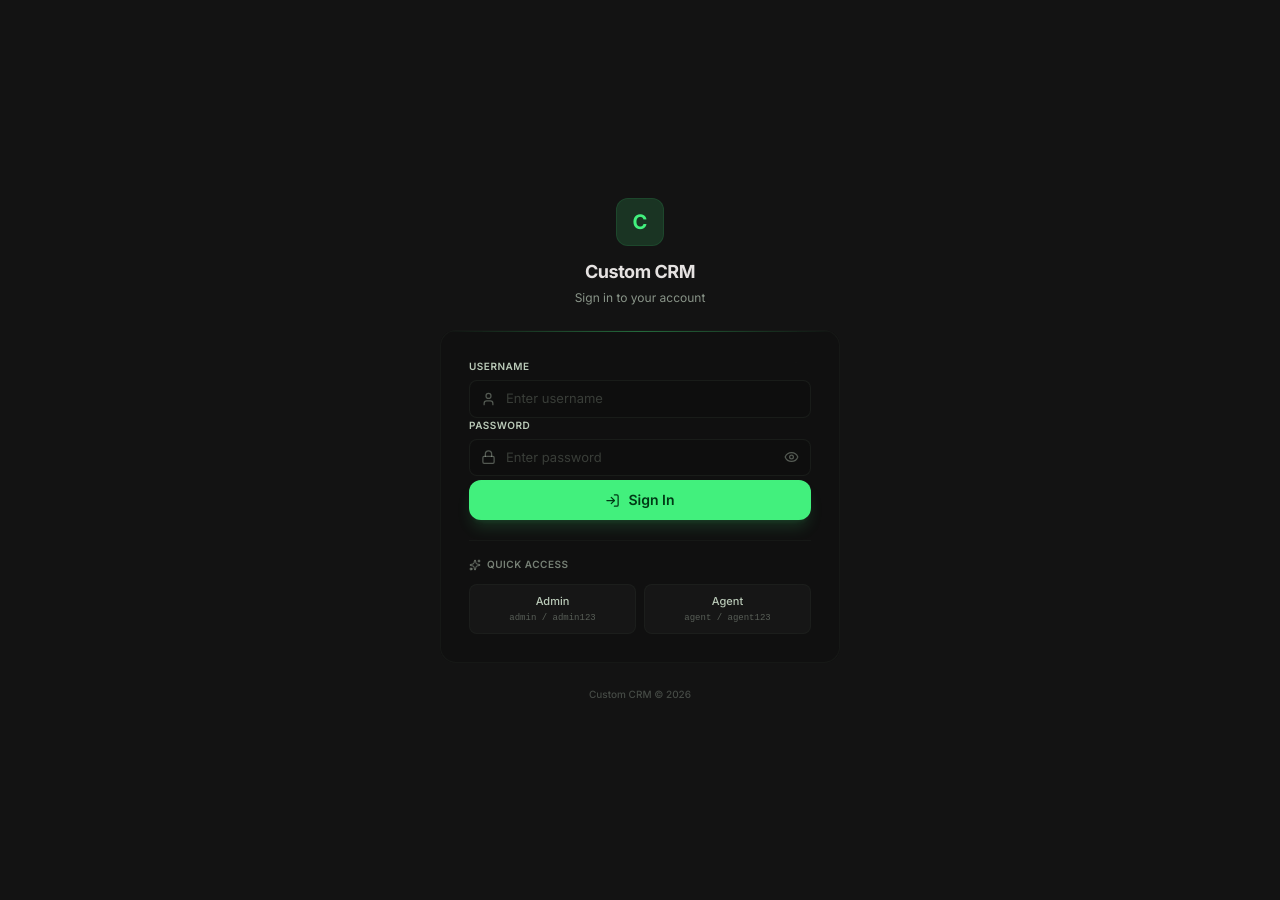
Test: Auth Flow Integration › handles network error gracefully
Step 1. Type "admin" into the field with placeholder "Enter username" → (640, 399), box x1=469 y1=380 x2=811 y2=418
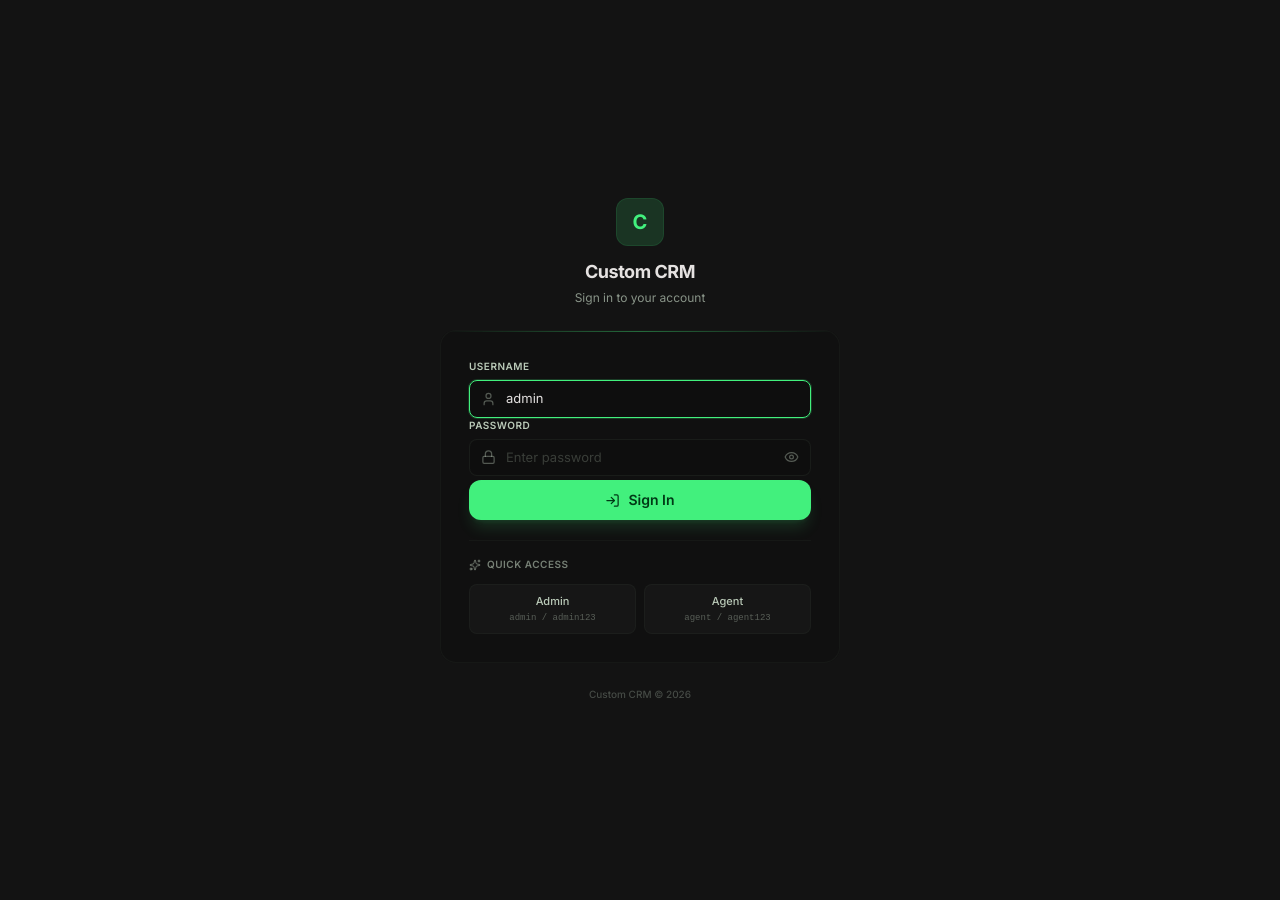
Step 2. Type "admin123" into the password field with placeholder "Enter password" → (640, 457), box x1=469 y1=438 x2=811 y2=476
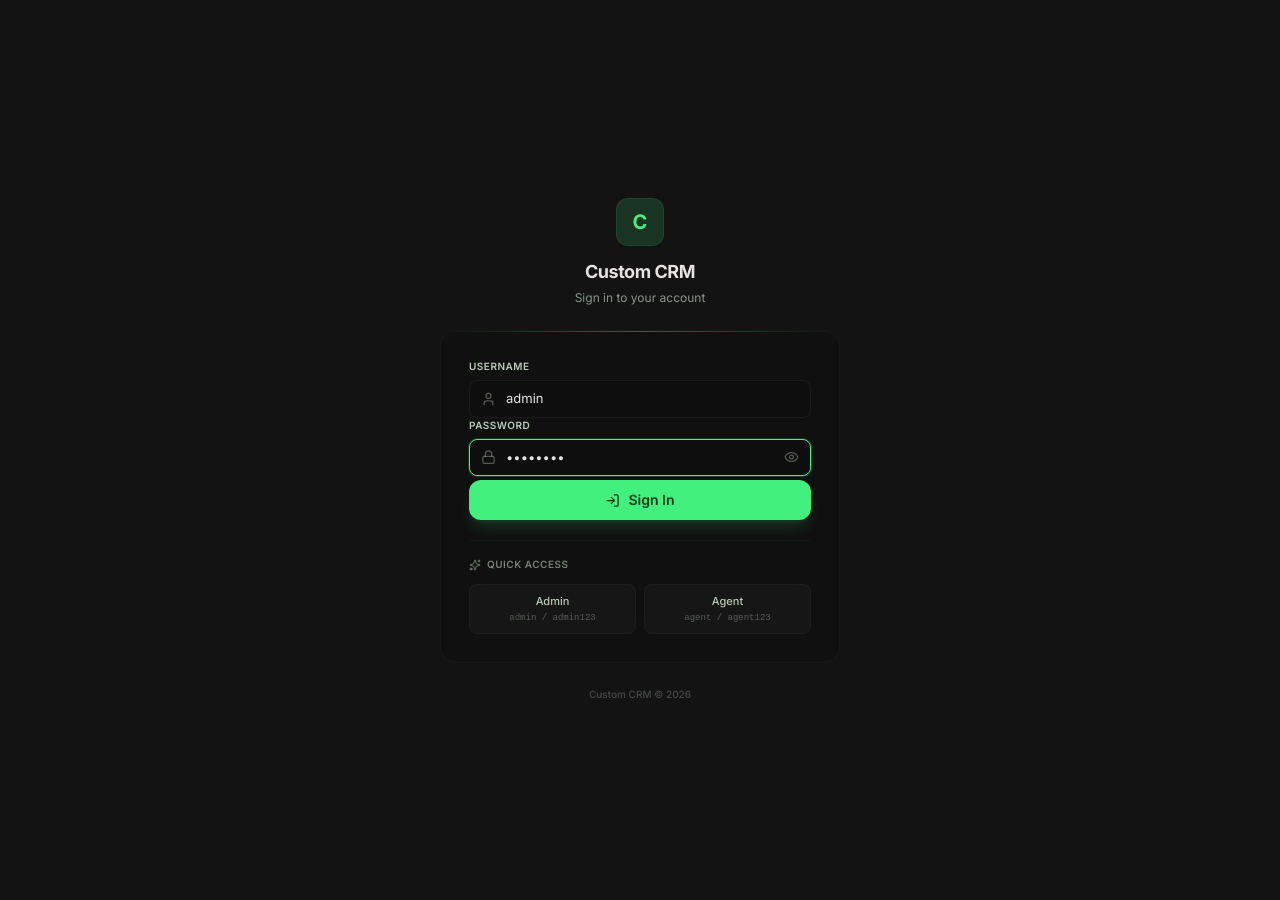
Step 3. Click the button "Sign In" → (640, 500), box x1=469 y1=480 x2=811 y2=520
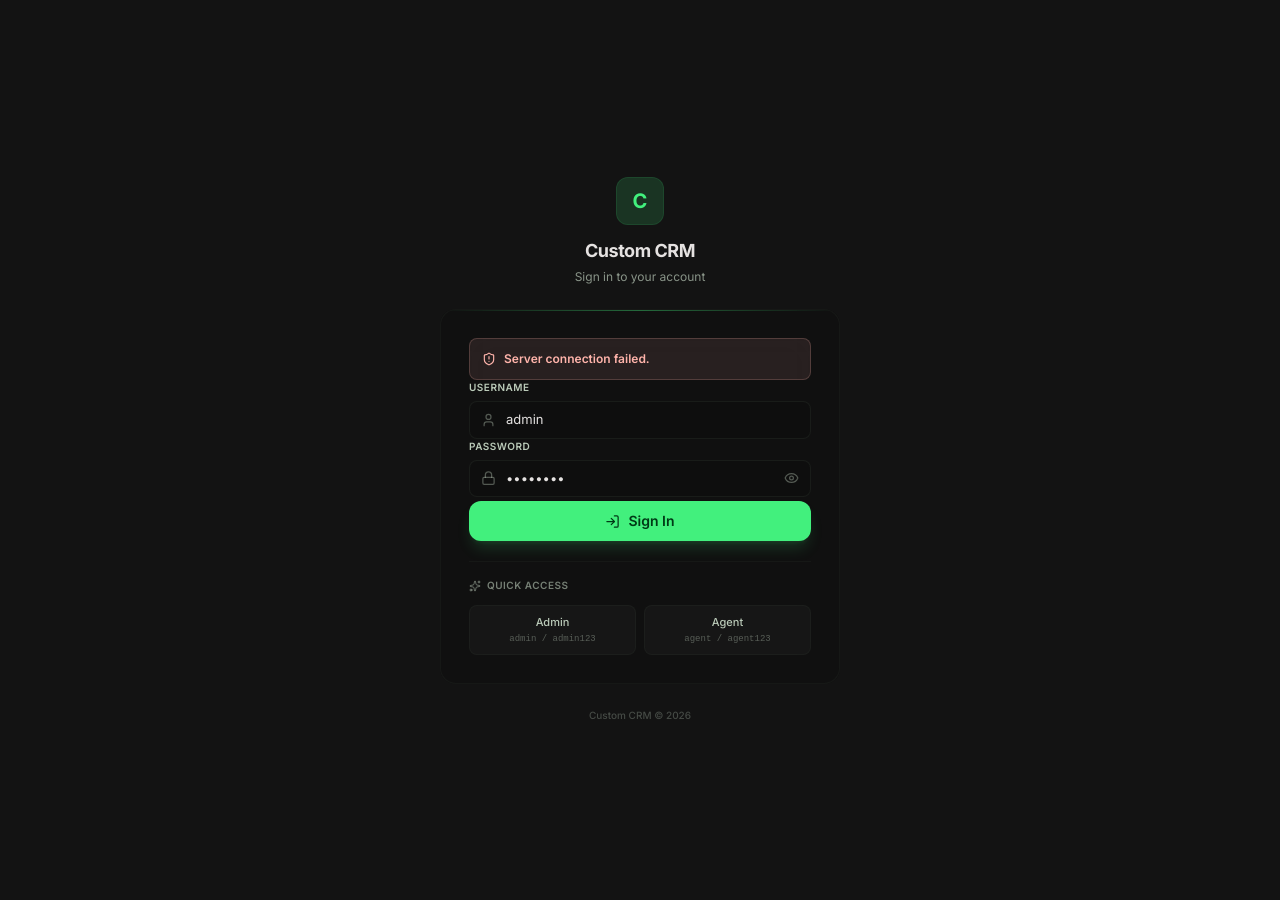
Expected: the text "Server connection failed." is shown, x1=504 y1=351 x2=650 y2=367
